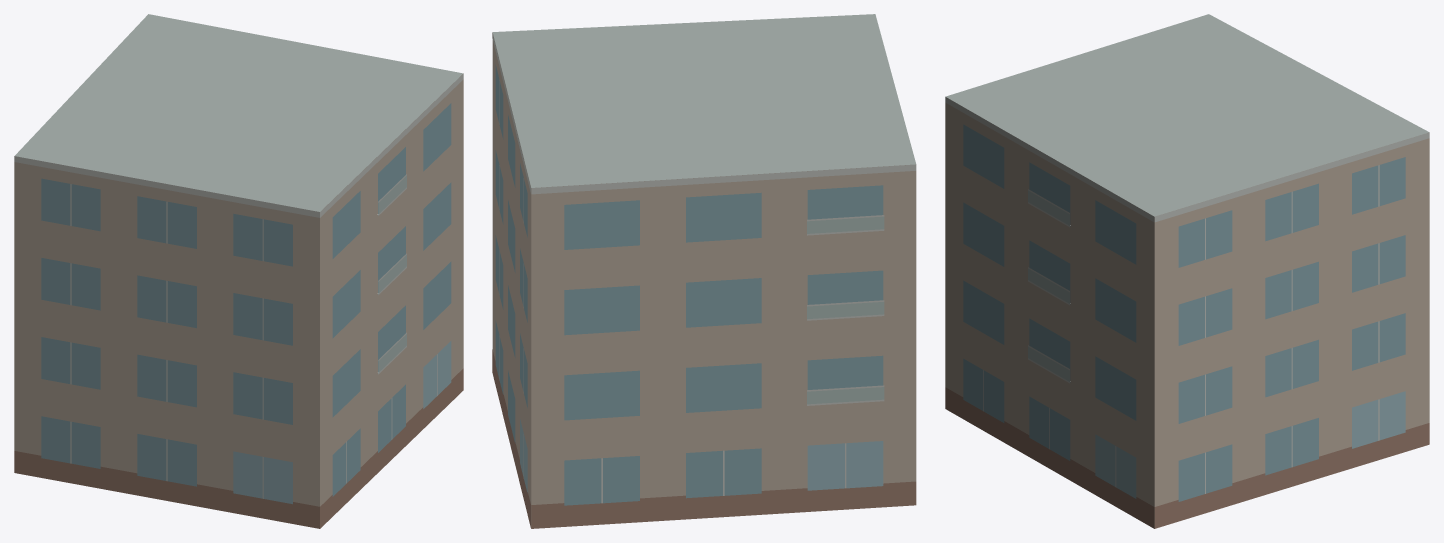
The model's file is survey-upis-32992119.glb.
3 views of the same model, side by side, from view 1: azimuth 30°, elevation 25°; view 2: azimuth 150°, elevation 25°; view 3: azimuth 270°, elevation 25° (orthographic). The views are drawn at different scales.
Visible parts, largest first — view 1: survey-upis-32992119.tmp; view 2: survey-upis-32992119.tmp; view 3: survey-upis-32992119.tmp.
Boxes of the visible parts, x1,y1,x2,y2 form: survey-upis-32992119.tmp: (14, 14, 463, 528); survey-upis-32992119.tmp: (492, 14, 916, 528); survey-upis-32992119.tmp: (945, 14, 1429, 528).
Bounding box in the file's own units: 18.18 × 13.05 × 18.36.
